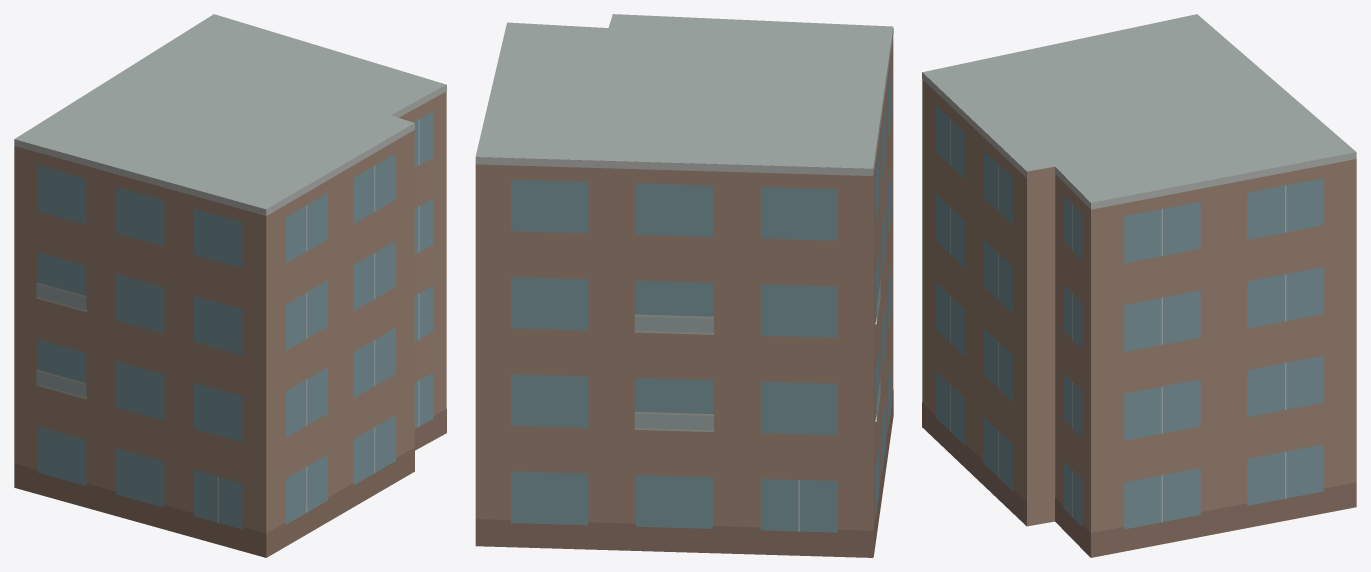
Rendered from survey-upis-32732598.glb.
The picture shows the model from 3 angles, left to right: view 1: azimuth 30°, elevation 25°; view 2: azimuth 150°, elevation 25°; view 3: azimuth 270°, elevation 25°; orthographic projection. The views are drawn at different scales.
Parts seen in each view (by area): view 1: survey-upis-32732598.tmp; view 2: survey-upis-32732598.tmp; view 3: survey-upis-32732598.tmp.
Part boxes in pixels (x1,y1,x2,y2): survey-upis-32732598.tmp: [14, 14, 446, 557]; survey-upis-32732598.tmp: [475, 14, 893, 557]; survey-upis-32732598.tmp: [922, 14, 1356, 557].
Size of the model in its own units: 14.63 by 12.8 by 14.21.
